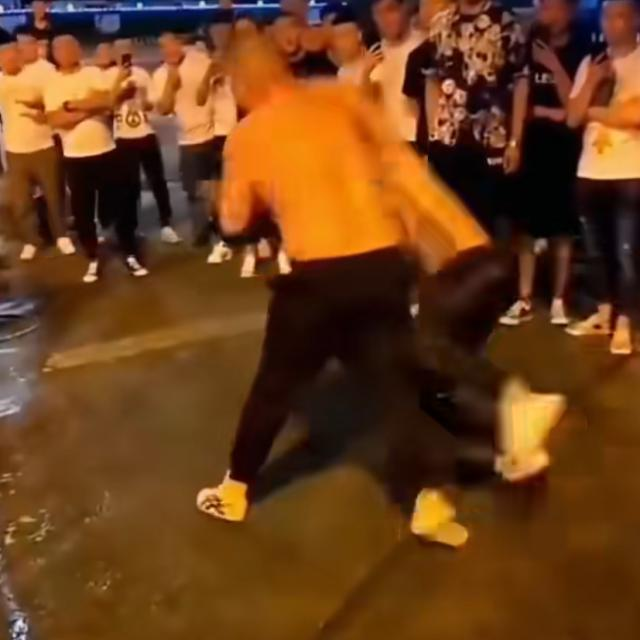fight: (210, 35, 534, 393)
